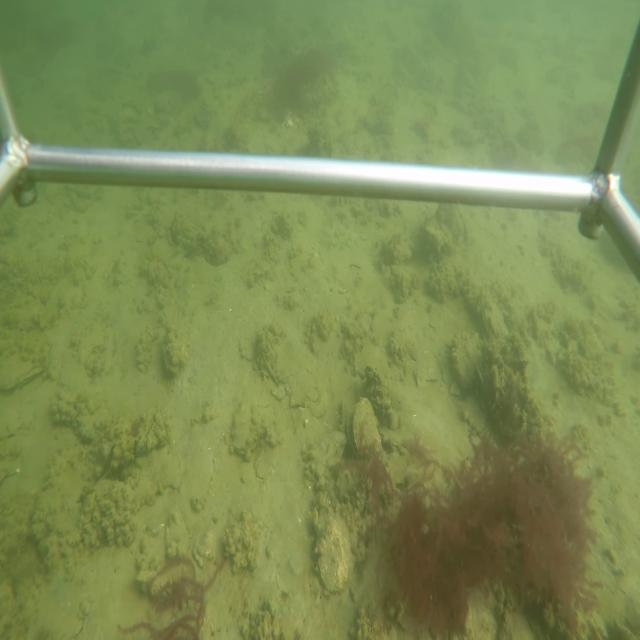Oyster-Closed: (313, 505, 357, 601), (0, 346, 51, 396)
Oyster-Open: (343, 396, 390, 460)
